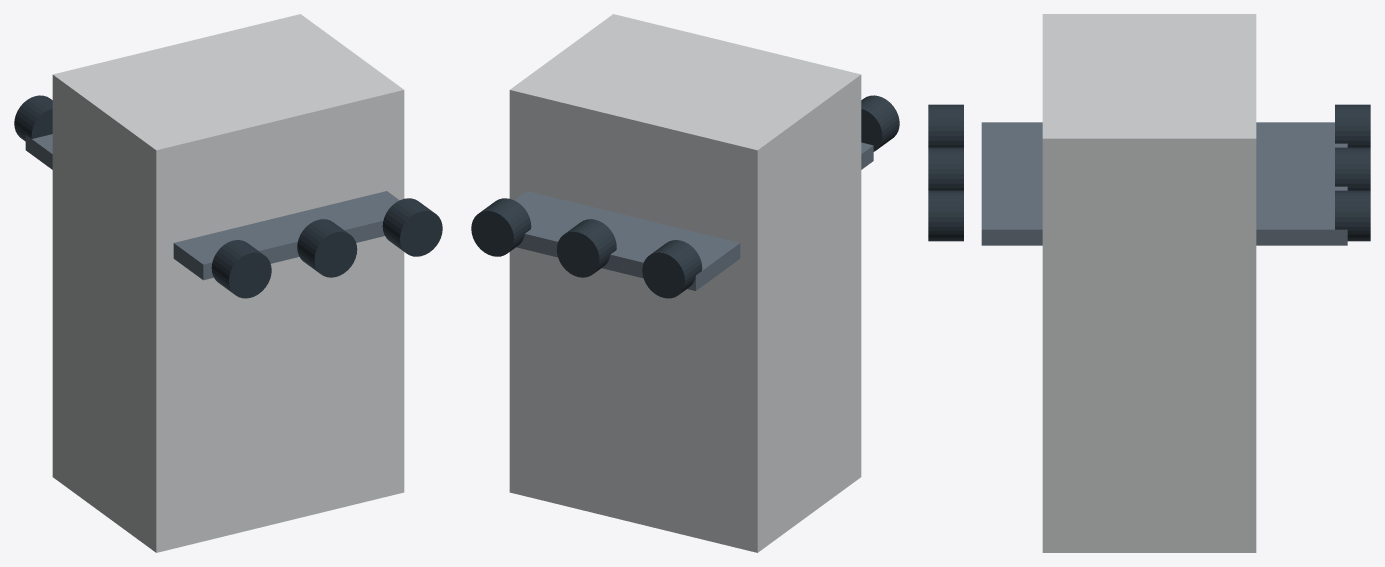
The model's file is timer_on.glb.
3 renders of one model, left to right at view 1: azimuth 30°, elevation 25°; view 2: azimuth 150°, elevation 25°; view 3: azimuth 270°, elevation 25°, orthographic. The views are drawn at different scales.
Visible parts, largest first — view 1: timer_on_0, timer_on_1, timer_on_5, timer_on_7, timer_on_3, timer_on_4; view 2: timer_on_0, timer_on_1, timer_on_8, timer_on_6, timer_on_4, timer_on_3; view 3: timer_on_0, timer_on_1, timer_on_7, timer_on_8, timer_on_3, timer_on_5, timer_on_4, timer_on_6.
Part boxes in pixels (<box>): timer_on_0: <box>52,14,404,552</box>; timer_on_1: <box>25,134,399,280</box>; timer_on_5: <box>297,219,357,277</box>; timer_on_7: <box>382,198,442,256</box>; timer_on_3: <box>211,240,271,298</box>; timer_on_4: <box>14,95,52,141</box>; timer_on_0: <box>509,14,861,552</box>; timer_on_1: <box>514,142,873,290</box>; timer_on_8: <box>471,198,531,256</box>; timer_on_6: <box>556,219,616,277</box>; timer_on_4: <box>642,240,702,298</box>; timer_on_3: <box>861,95,899,151</box>; timer_on_0: <box>1042,14,1256,552</box>; timer_on_1: <box>981,122,1347,245</box>; timer_on_7: <box>928,190,963,241</box>; timer_on_8: <box>1335,190,1370,241</box>; timer_on_3: <box>928,104,963,147</box>; timer_on_5: <box>928,147,963,190</box>; timer_on_4: <box>1335,104,1370,147</box>; timer_on_6: <box>1335,147,1370,190</box>.
Bounding box in the file's own units: 0.58 × 0.9 × 0.87.
